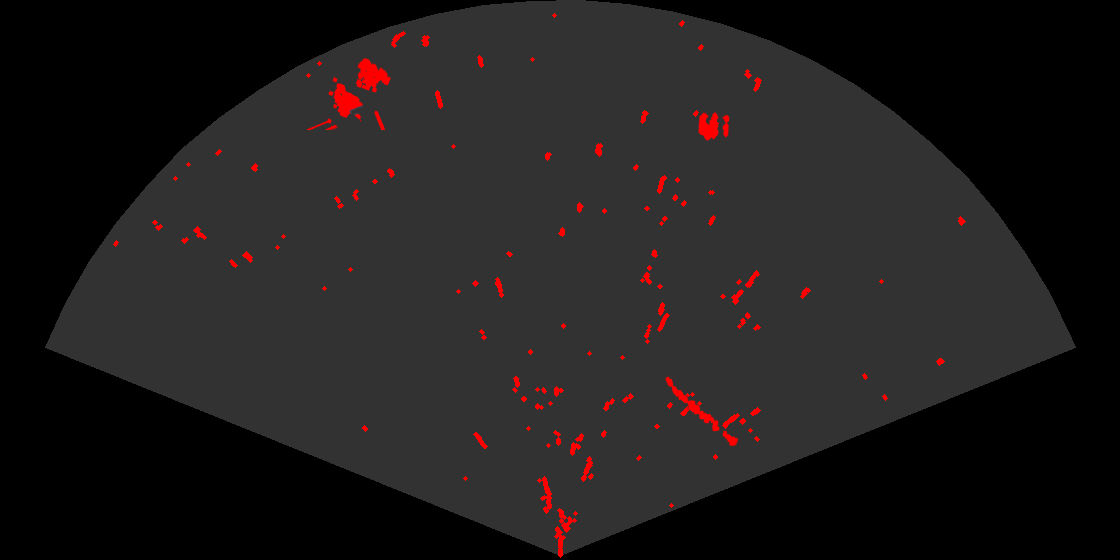ball: (697, 110, 731, 142)
cage: (307, 57, 393, 130)
chain: (664, 375, 740, 448)
